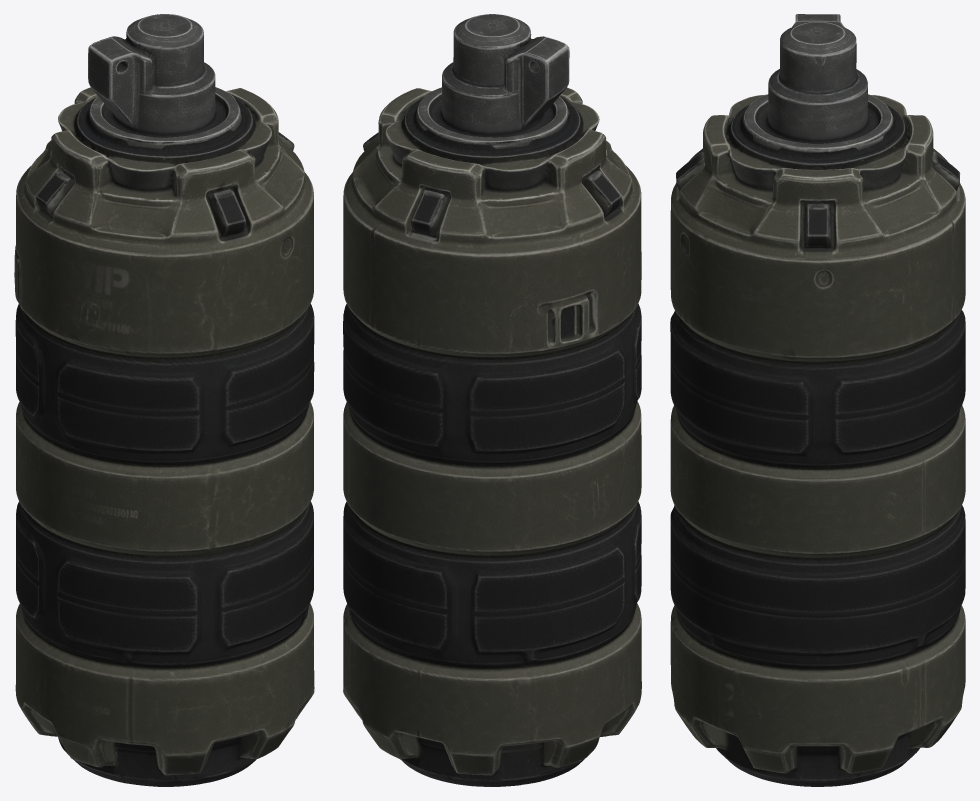
Rendered from granada.fbx.
3 views of the same model, side by side, from view 1: azimuth 30°, elevation 25°; view 2: azimuth 150°, elevation 25°; view 3: azimuth 270°, elevation 25° (orthographic).
Parts seen in each view (by area): view 1: mesh_node; view 2: mesh_node; view 3: mesh_node.
Boxes of the visible parts, x1,y1,x2,y2 form: mesh_node: (14, 14, 314, 786); mesh_node: (343, 14, 641, 786); mesh_node: (670, 14, 965, 786).
Size of the model in its own units: 71.23 by 190 by 71.22.
1 material, 1 textured.
